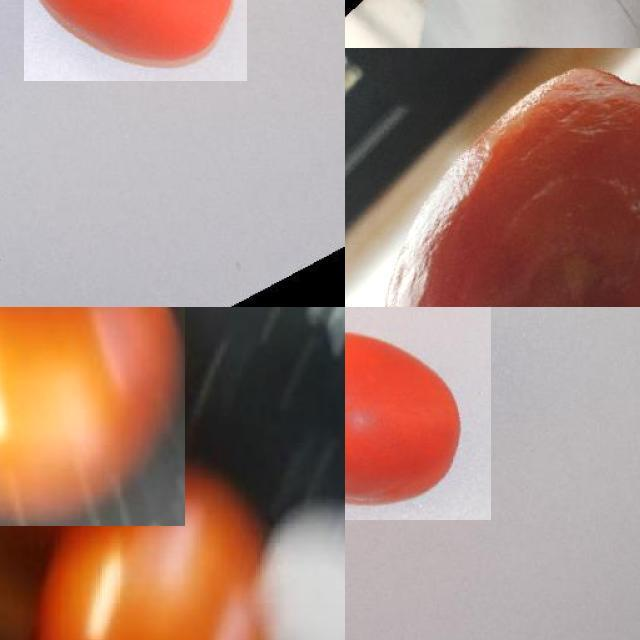tomato: (6, 485, 297, 640), (1, 308, 185, 527), (346, 308, 491, 521), (25, 1, 247, 82)
